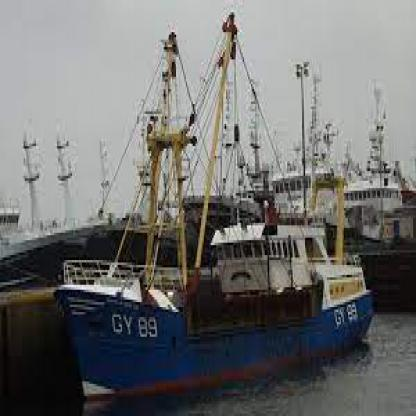fish-b: (52, 12, 382, 399)
